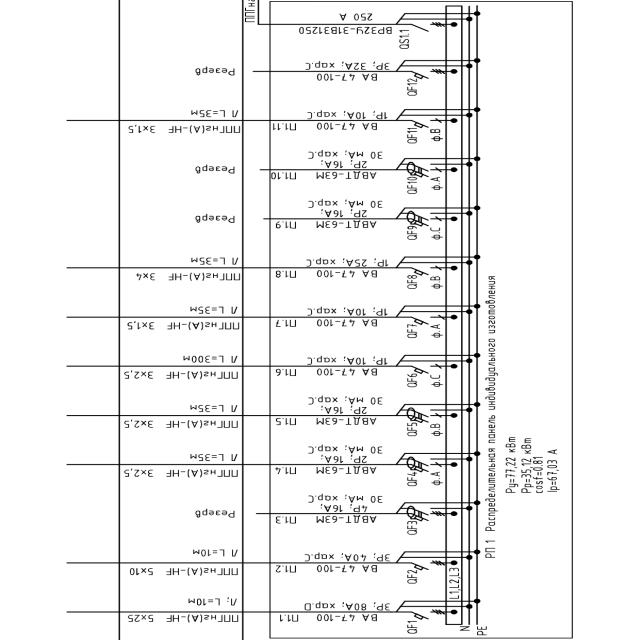-: (302, 393, 389, 429), (300, 492, 387, 528), (302, 444, 388, 480), (302, 147, 388, 180), (303, 198, 389, 230), (295, 11, 395, 38), (301, 599, 394, 624), (301, 552, 395, 576), (301, 58, 392, 82), (303, 257, 390, 281), (302, 306, 389, 330), (304, 108, 391, 132), (303, 354, 390, 378), (426, 371, 444, 389), (428, 470, 445, 488), (428, 274, 446, 290), (428, 224, 444, 242), (428, 421, 444, 438), (428, 322, 444, 339), (428, 128, 446, 143), (428, 175, 444, 191)
QF: (409, 69, 434, 80), (410, 610, 434, 621), (410, 365, 434, 375), (410, 266, 434, 276), (410, 561, 434, 571), (412, 315, 435, 325), (411, 119, 434, 129)
QFD: (406, 210, 434, 228), (406, 160, 434, 178), (406, 406, 433, 424), (408, 456, 434, 473), (406, 506, 433, 522)
QS: (410, 23, 432, 32)
